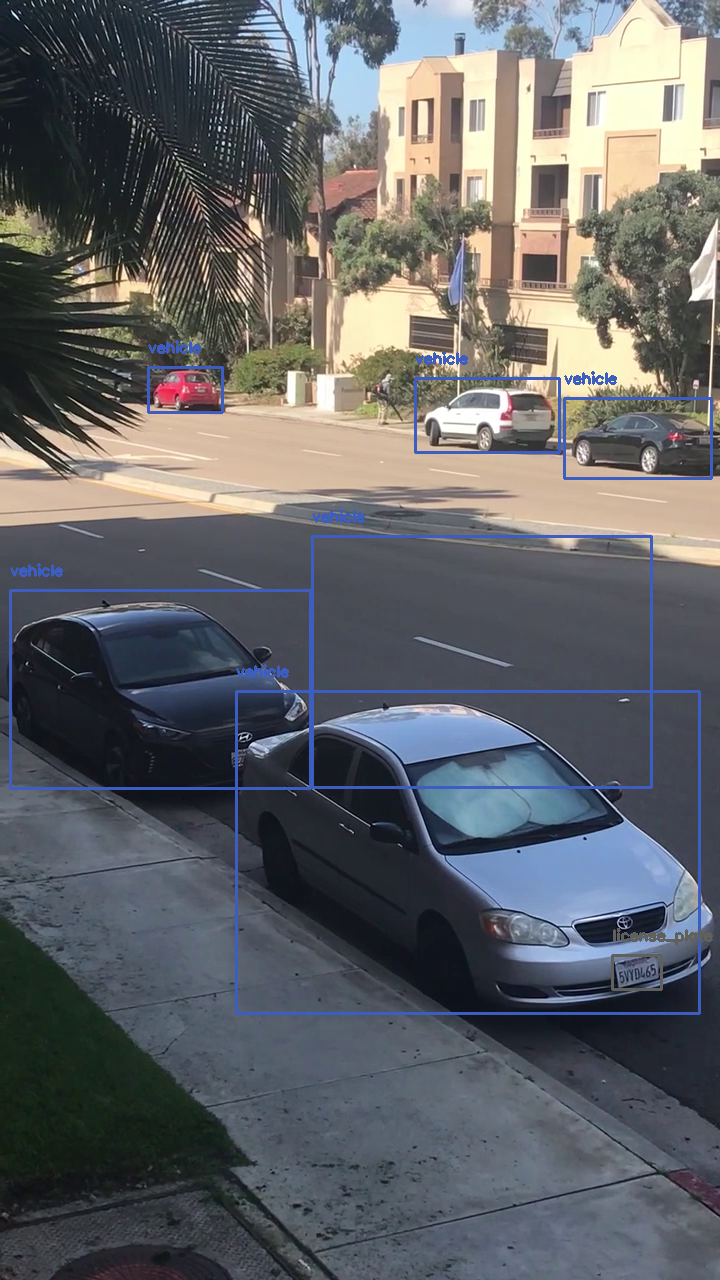license_plate: (612, 955, 661, 989)
vehicle: (236, 691, 699, 1013), (312, 536, 651, 787), (10, 590, 310, 788), (564, 398, 711, 478), (415, 378, 559, 452), (148, 367, 222, 412)
